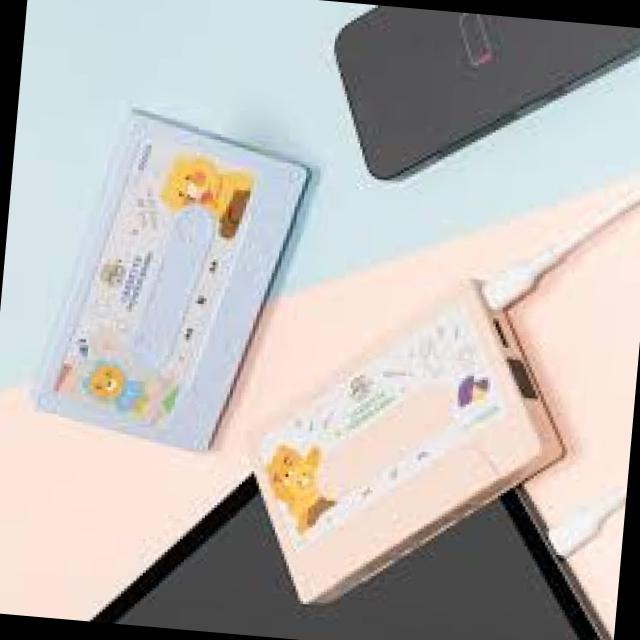portable-charger: (229, 256, 585, 616), (25, 100, 324, 460)
